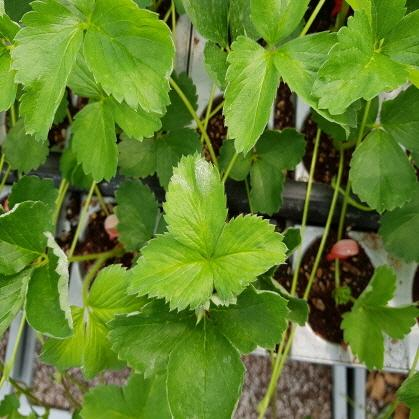Powdery Mildew Leaf: (81, 0, 176, 113), (160, 149, 229, 258), (23, 231, 75, 339), (0, 200, 55, 276)
